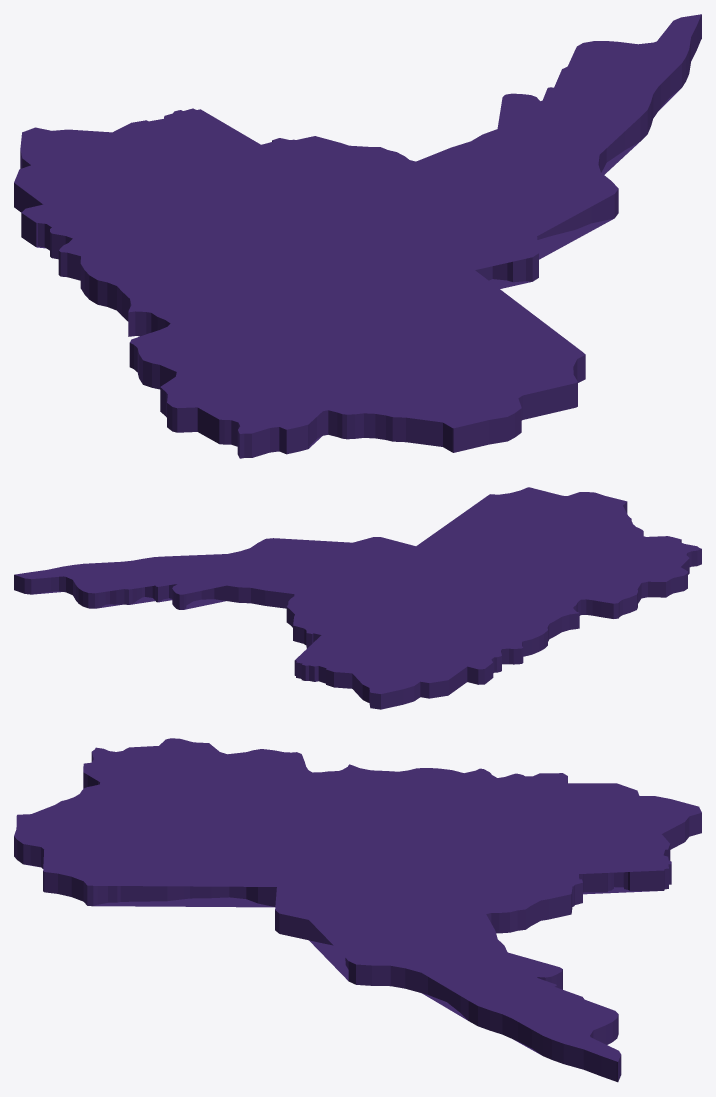
The picture shows the model from 3 angles, top to bottom: view 1: azimuth 30°, elevation 25°; view 2: azimuth 150°, elevation 25°; view 3: azimuth 270°, elevation 25°; orthographic projection. The views are drawn at different scales.
Visible parts, largest first — view 1: Andhra Pradesh; view 2: Andhra Pradesh; view 3: Andhra Pradesh.
Part boxes in pixels (box(x1,y1,x2,y2)): Andhra Pradesh: box(14, 14, 701, 458); Andhra Pradesh: box(14, 487, 701, 709); Andhra Pradesh: box(14, 738, 701, 1082).
Size of the model in its own units: 122 by 3.59 by 110.
